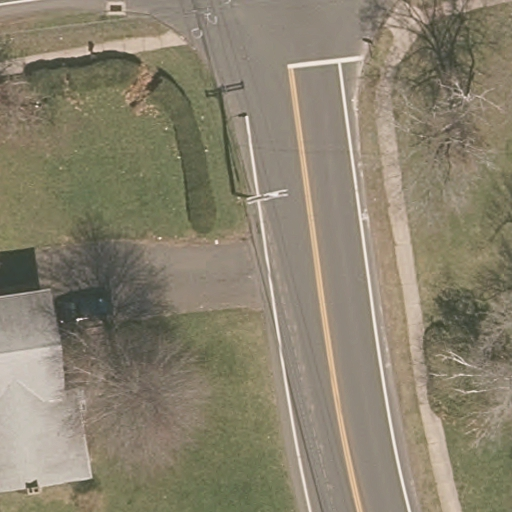DT: (244, 187, 289, 205)
